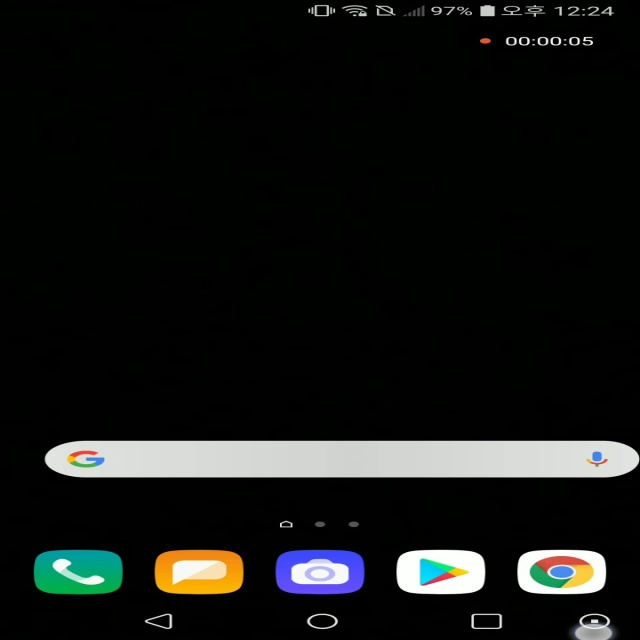Cursor: (574, 623, 617, 640)
